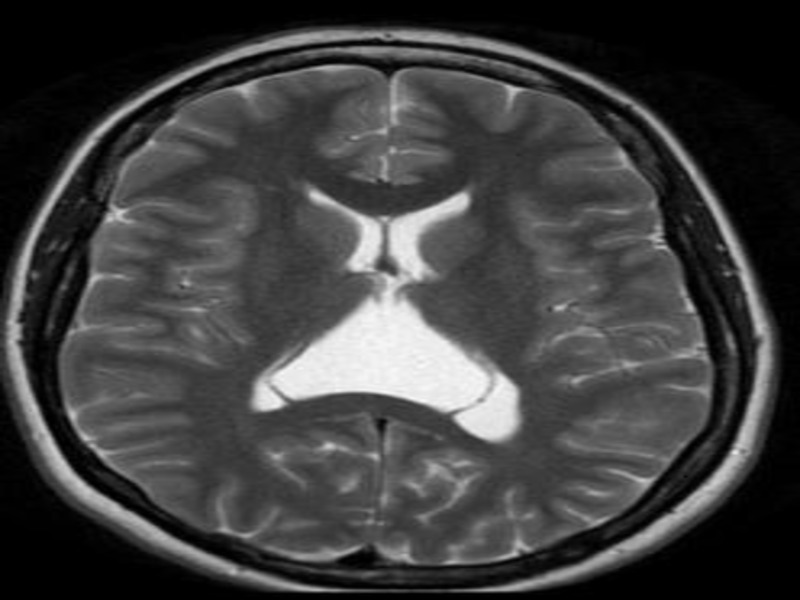tumor: (238, 174, 531, 452)
